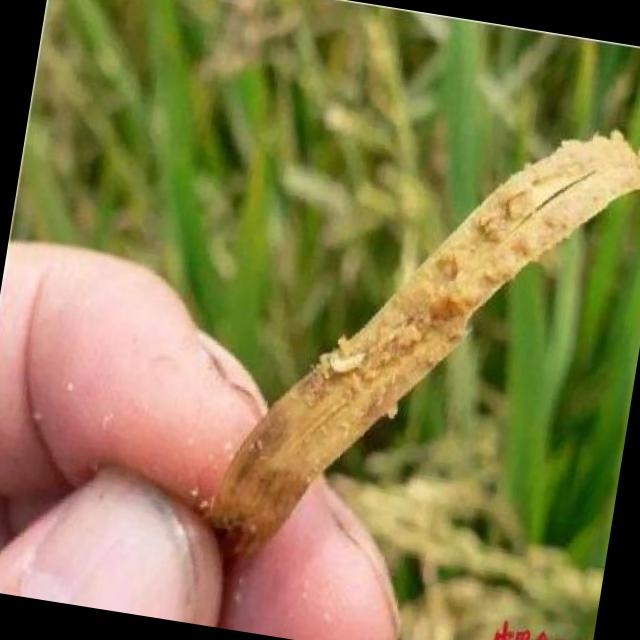whorl-maggot: (326, 342, 373, 385)
